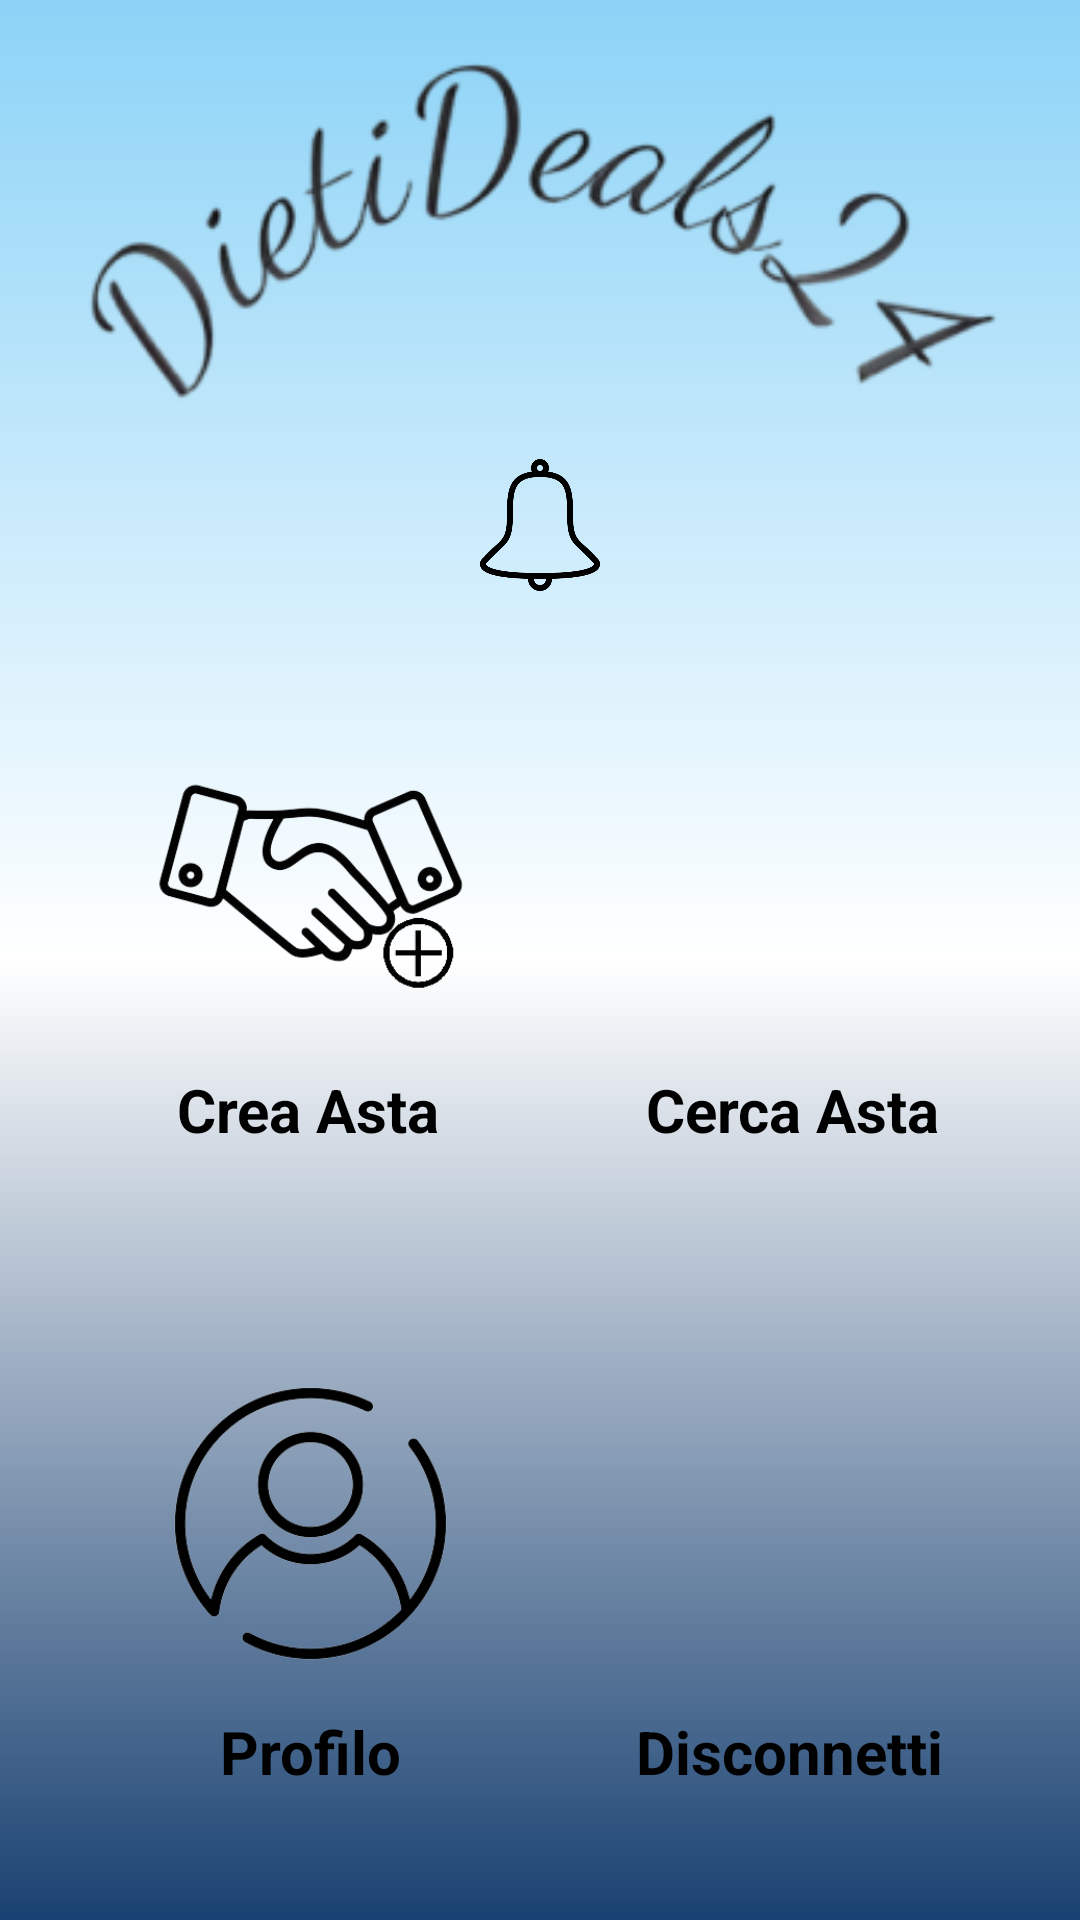

Point at icon controls on the screen. Image size 1080w x 1920h, points as (x,y).
notifica: (540,525)
